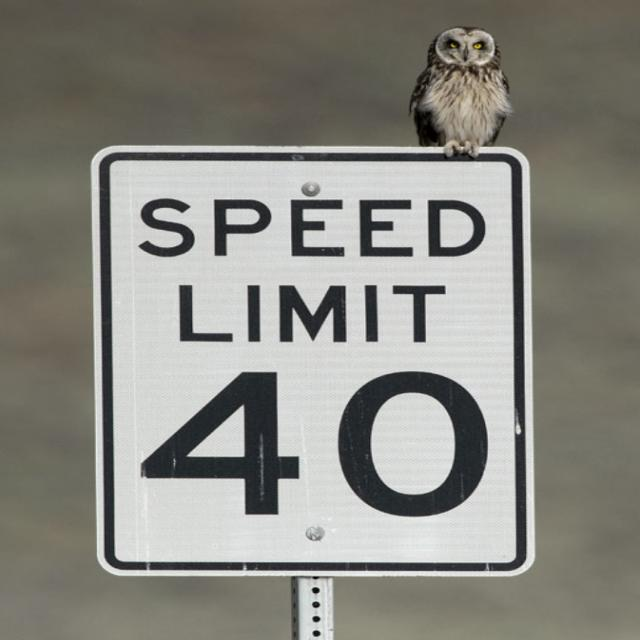speedLimit40: (106, 162, 512, 566)
